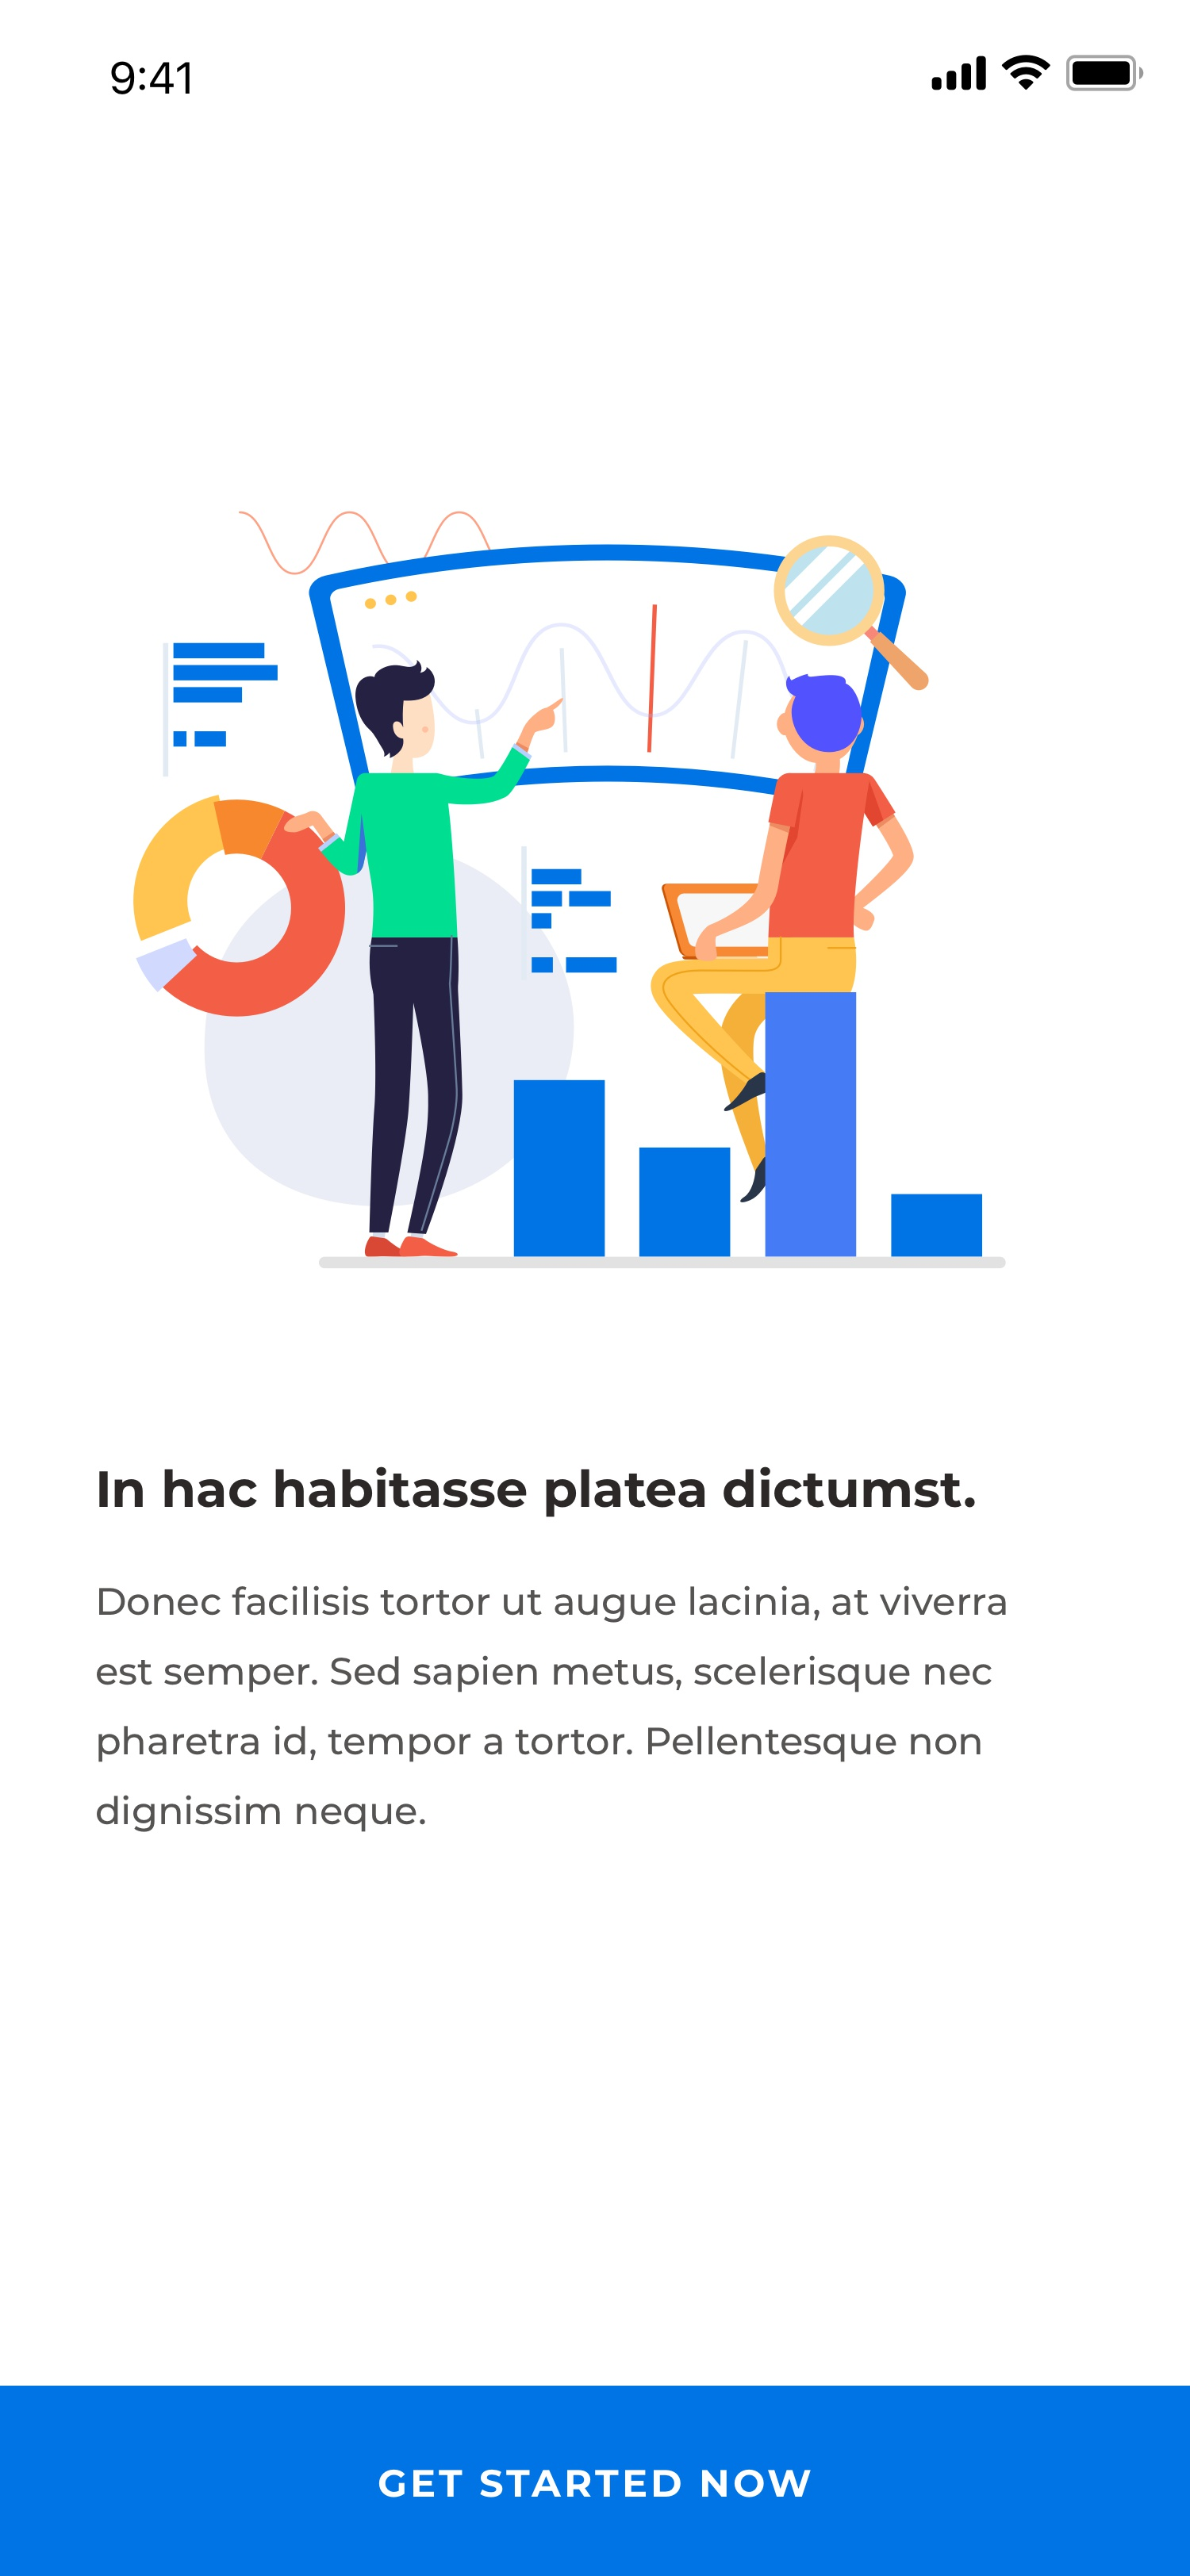Image: (133, 508, 1008, 1270)
Text: (95, 1584, 1008, 1833), (97, 1465, 976, 1520)
TextButton: (0, 2385, 1190, 2576)
UpperTaskBar: (112, 54, 1144, 95)
